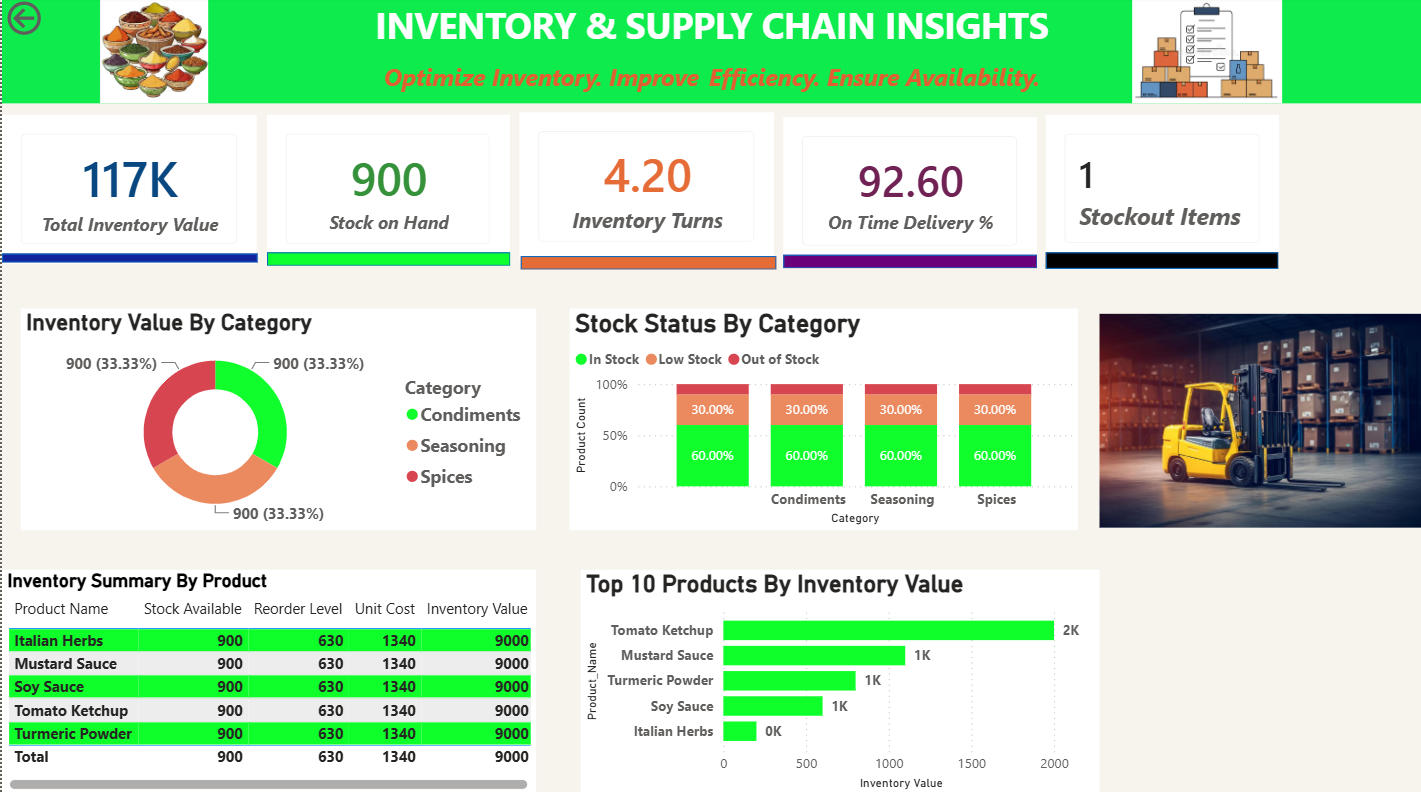

The page's visual inventory and layout, read from the dashboard file:
{"tool":"powerbi","page":{"name":"Inventory & Supply Chain Insights","canvas":[1280,720],"ordinal":2},"visuals":[{"type":"group","id":"g1","title":"Group 2","box":[0,0,1280.3,96.6],"z":0},{"type":"group","id":"g2","title":"Group 1","box":[0,0,1280.3,96.6],"z":0,"group":"g1"},{"type":"textbox","box":[0,0,1280.3,96.6],"z":0,"group":"g2"},{"type":"image","box":[25.7,0,222.6,96.6],"z":1000,"group":"g1"},{"type":"image","box":[892.7,0,387.6,96.6],"z":1000,"group":"g2"},{"type":"cardVisual","fields":{"Data":["Sales_data.Total Inventory Value"]},"box":[0,107.6,229.9,134.5],"z":1000,"group":"g3"},{"type":"cardVisual","fields":{"Data":["Sales_data.Stock on Hand"]},"box":[238.5,107.6,218.9,134.5],"z":2000,"group":"g4"},{"type":"cardVisual","fields":{"Data":["Sales_data.Inventory Turns"]},"box":[466.6,104.3,229.9,134.5],"z":3000,"group":"g5"},{"type":"cardVisual","fields":{"Data":["Sales_data.On Time Delivery %"]},"box":[704.3,108.8,228.7,133.3],"z":4000,"group":"g6"},{"type":"donutChart","title":"Inventory Value By Category","fields":{"Y":["Sum(inventory_data.Stock_Available)"],"Category":["Sales_data.Category"]},"box":[16.5,281.3,465.2,200.3],"z":6000},{"type":"hundredPercentStackedColumnChart","title":"Stock Status By Category","fields":{"Category":["Sales_data.Category"],"Series":["inventory_data.Stock_Status"],"Y":["Sales_data.Product Count"]},"box":[511.8,281.3,458.3,200.3],"z":7000},{"type":"cardVisual","fields":{"Data":["Sales_data.Stockout Items"]},"box":[941.5,107.6,210.3,133.3],"z":7001,"group":"g7"},{"type":"barChart","title":"Top 10 Products By Inventory Value","fields":{"Category":["product_data.Product_Name"],"Y":["Sales_data.Inventory Value"]},"box":[521.4,517.3,467.9,203.1],"z":7002},{"type":"tableEx","title":"Inventory Summary By Product","fields":{"Values":["Sales_data.Product_Name","Sum(inventory_data.Stock_Available)","Sum(inventory_data.Reorder_Level)","Sum(product_data.Unit_Cost)","Sales_data.Inventory Value"]},"box":[0,517.3,481.6,203.1],"z":7003},{"type":"actionButton","box":[0,0,100,40],"z":7004},{"type":"image","box":[989.4,281.3,290.9,201.7],"z":7005},{"type":"shape","box":[0,233.3,230.5,8.2],"z":7006,"group":"g3"},{"type":"group","id":"g3","title":"Group 3","box":[0,107.6,230.5,134.5],"z":7007},{"type":"shape","box":[238.8,231.9,219.6,12.3],"z":7008,"group":"g4"},{"type":"group","id":"g4","title":"Group 4","box":[238.5,107.6,219.9,136.6],"z":7009},{"type":"shape","box":[467.3,234.1,230.5,12.3],"z":7010,"group":"g5"},{"type":"group","id":"g5","title":"Group 5","box":[466.6,104.3,230.5,142.7],"z":7011},{"type":"shape","box":[703.9,233.2,229.2,12.3],"z":7012,"group":"g6"},{"type":"group","id":"g6","title":"Group 6","box":[703.9,108.8,229.2,136.8],"z":7013},{"type":"shape","box":[941.3,231.9,209.9,15.1],"z":7014,"group":"g7"},{"type":"group","id":"g7","title":"Group 7","box":[941.3,107.6,210.6,139.4],"z":7015}]}

Visuals, with their boxes in screenshot pixels (x1, y1, x2, y2), scaled from the page's 1280x720 canvas onto the 1421x792 screenshot:
"Group 2" group: bbox=(0, 0, 1420, 106)
"Group 1" group: bbox=(0, 0, 1420, 106)
textbox: bbox=(0, 0, 1420, 106)
image: bbox=(29, 0, 276, 106)
image: bbox=(991, 0, 1420, 106)
cardVisual - Sales_data.Total Inventory Value: bbox=(0, 118, 255, 266)
cardVisual - Sales_data.Stock on Hand: bbox=(265, 118, 508, 266)
cardVisual - Sales_data.Inventory Turns: bbox=(518, 115, 773, 263)
cardVisual - Sales_data.On Time Delivery %: bbox=(782, 120, 1036, 266)
"Inventory Value By Category" donutChart: bbox=(18, 309, 535, 530)
"Stock Status By Category" hundredPercentStackedColumnChart: bbox=(568, 309, 1077, 530)
cardVisual - Sales_data.Stockout Items: bbox=(1045, 118, 1279, 265)
"Top 10 Products By Inventory Value" barChart: bbox=(579, 569, 1098, 791)
"Inventory Summary By Product" tableEx: bbox=(0, 569, 535, 791)
actionButton: bbox=(0, 0, 111, 44)
image: bbox=(1098, 309, 1420, 531)
shape: bbox=(0, 257, 256, 266)
"Group 3" group: bbox=(0, 118, 256, 266)
shape: bbox=(265, 255, 509, 269)
"Group 4" group: bbox=(265, 118, 509, 269)
shape: bbox=(519, 258, 775, 271)
"Group 5" group: bbox=(518, 115, 774, 272)
shape: bbox=(781, 257, 1036, 270)
"Group 6" group: bbox=(781, 120, 1036, 270)
shape: bbox=(1045, 255, 1278, 272)
"Group 7" group: bbox=(1045, 118, 1279, 272)
